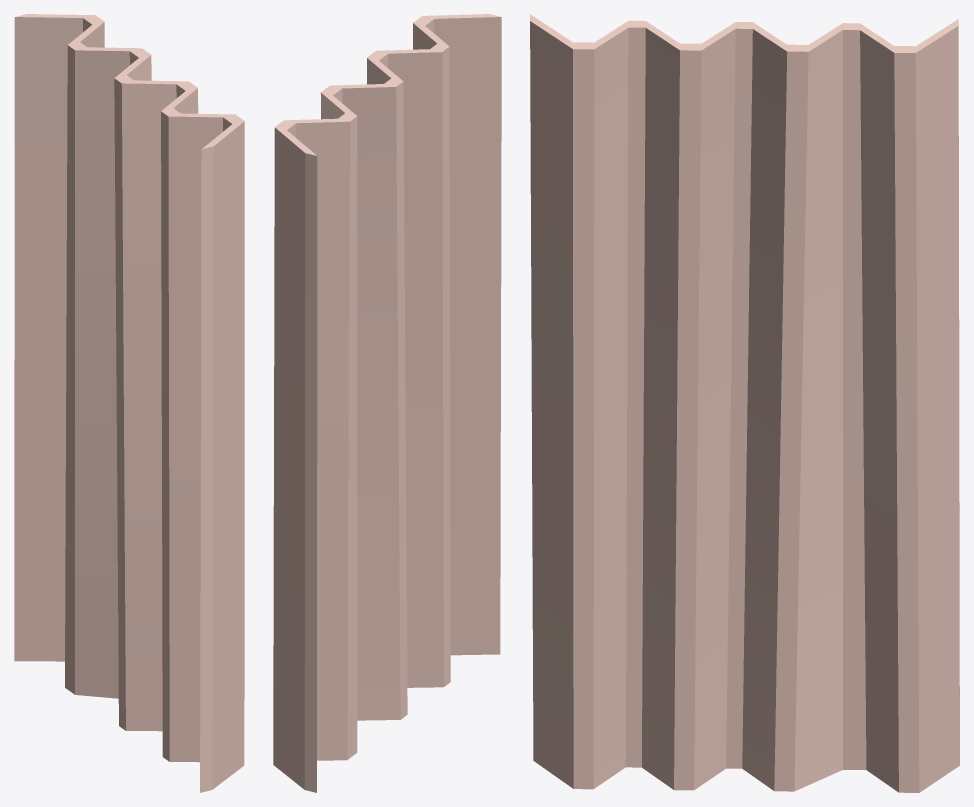
The model's file is Bedroom_2_Curtain_3.fbx.
3 renders of one model, left to right at view 1: azimuth 30°, elevation 25°; view 2: azimuth 150°, elevation 25°; view 3: azimuth 270°, elevation 25°, orthographic. The views are drawn at different scales.
Visible parts, largest first — view 1: Bedroom_2_Curtain_3; view 2: Bedroom_2_Curtain_3; view 3: Bedroom_2_Curtain_3.
Boxes of the visible parts, <box> form: Bedroom_2_Curtain_3: <box>14,14,244,792</box>; Bedroom_2_Curtain_3: <box>273,14,501,792</box>; Bedroom_2_Curtain_3: <box>530,14,959,792</box>.
Bounding box in the file's own units: 16.35 × 164 × 85.65.
